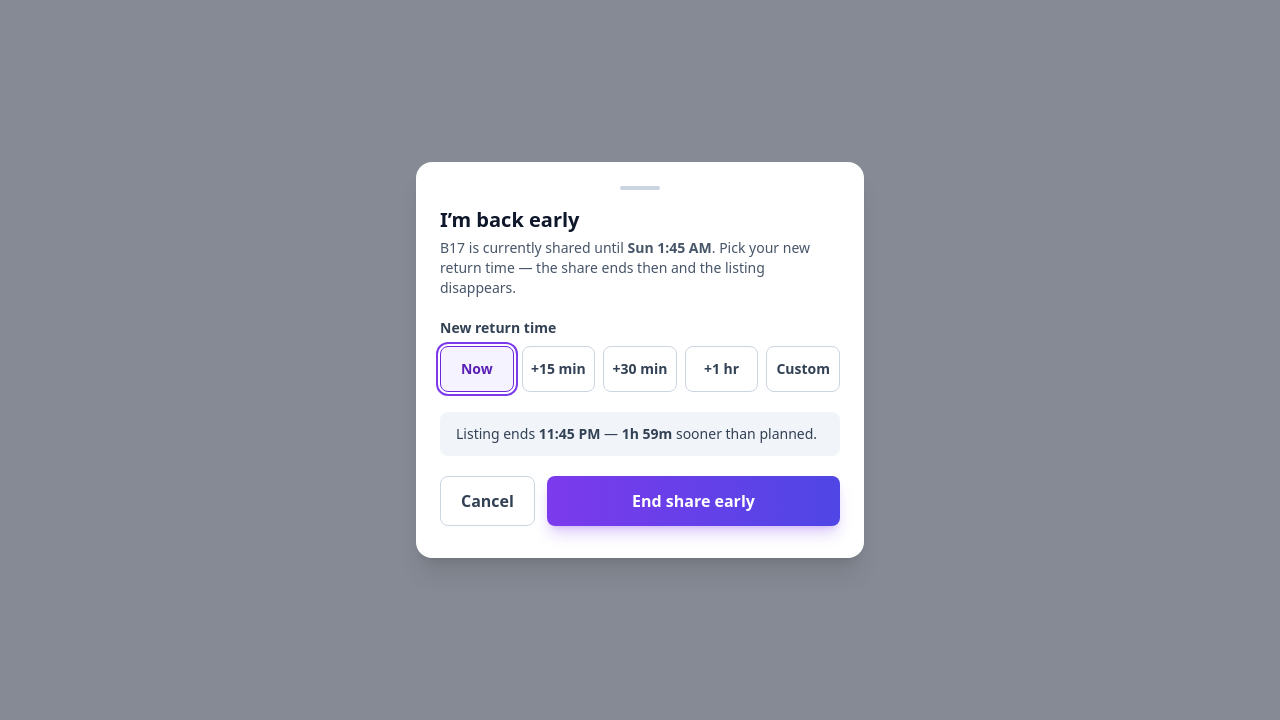
Test: ReturnEarlyDialog › shows other server errors as the friendly message
Click the button "+15 min": (558, 369) [522,346,595,392]
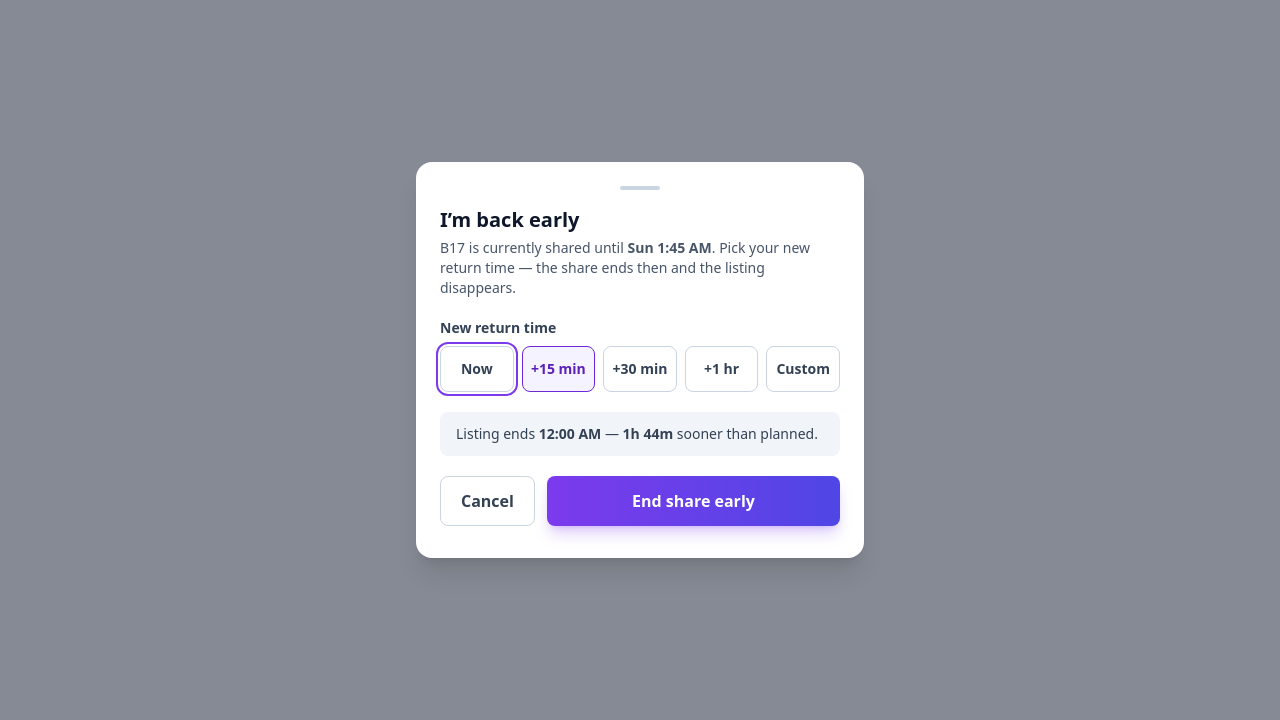
Click the button "End share early": (693, 501) [547,476,840,526]
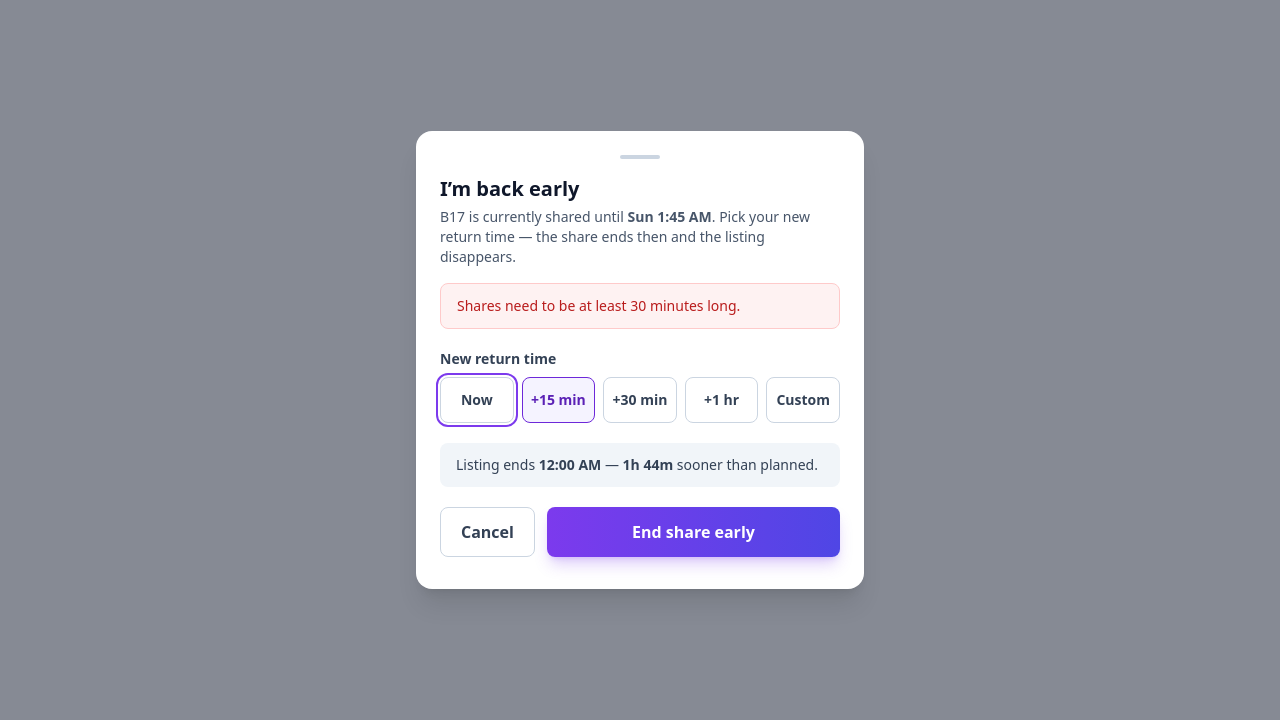
Now the message reads "Shares need to be at least 30 minutes long.", box [457,296,740,315]
